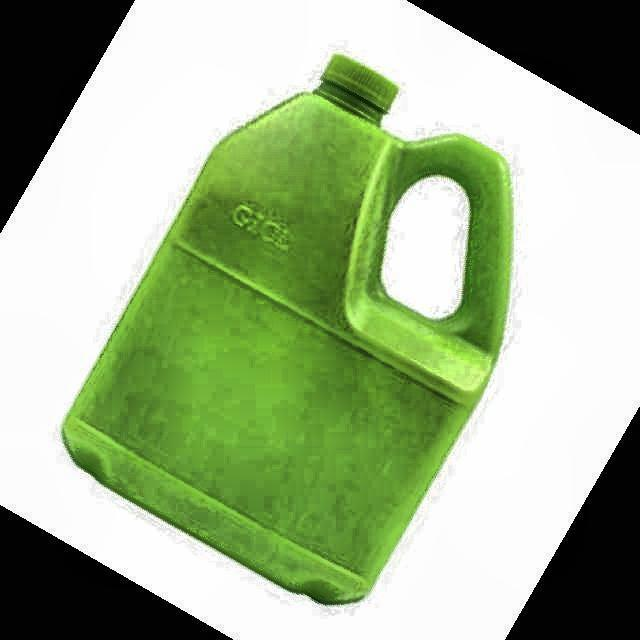plastic: (62, 56, 512, 602)
